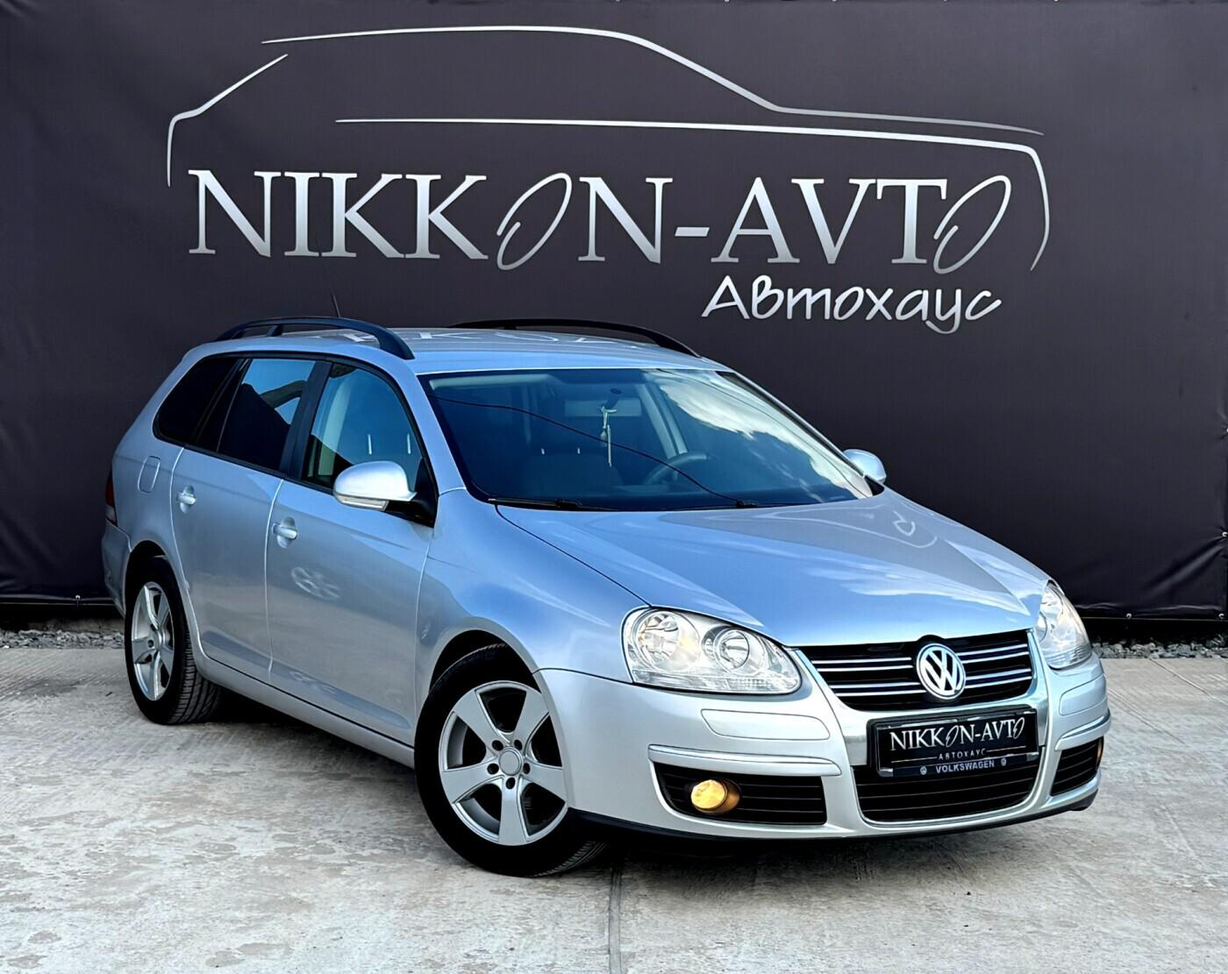Golf_2003-2009: (98, 314, 1109, 872)
